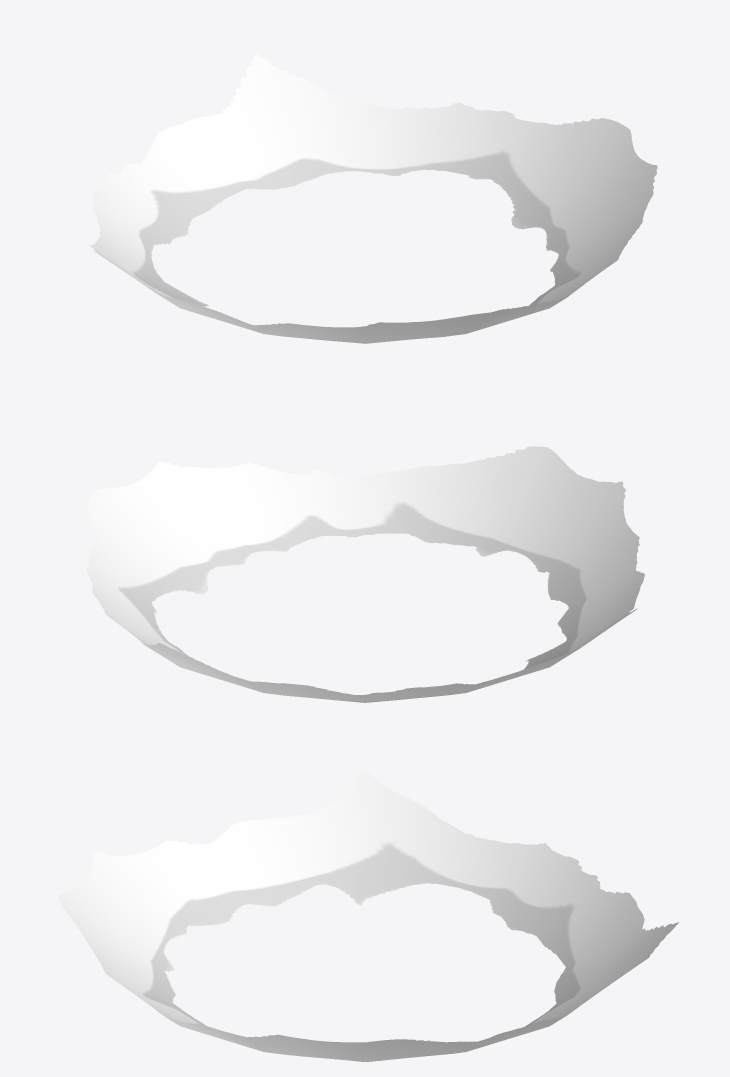
Rendered from VFX_Shock1.FBX.
The picture shows the model from 3 angles, top to bottom: view 1: azimuth 30°, elevation 25°; view 2: azimuth 150°, elevation 25°; view 3: azimuth 270°, elevation 25°; orthographic projection.
Parts seen in each view (by area): view 1: Shock1; view 2: Shock1; view 3: Shock1.
Part boxes in pixels (<box>): Shock1: <box>90,54,657,343</box>; Shock1: <box>86,446,644,702</box>; Shock1: <box>58,769,678,1061</box>.
Bounding box in the file's own units: 151 × 27.69 × 152.
